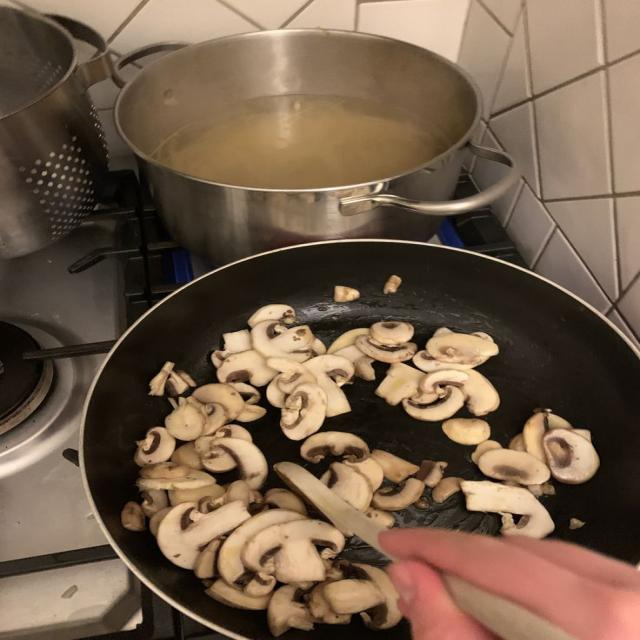champignon mushrooms: (218, 509, 306, 588), (242, 520, 345, 583), (157, 502, 250, 568), (461, 481, 554, 538), (354, 564, 402, 630), (543, 428, 599, 484), (306, 355, 354, 416), (212, 438, 267, 489), (194, 425, 252, 472), (523, 409, 572, 463), (280, 383, 326, 440), (320, 462, 373, 511), (251, 321, 314, 362), (478, 449, 550, 484), (426, 332, 499, 365), (267, 585, 313, 637), (403, 386, 465, 421), (217, 350, 277, 386), (300, 432, 369, 463), (324, 579, 385, 613), (375, 363, 424, 405), (205, 580, 271, 610), (192, 383, 244, 421), (307, 580, 351, 624), (267, 358, 317, 395), (165, 398, 206, 441), (137, 468, 215, 490), (372, 478, 424, 510), (463, 370, 499, 416), (356, 336, 417, 363), (134, 427, 175, 467), (149, 361, 195, 396), (168, 477, 225, 505), (371, 450, 419, 483), (334, 344, 375, 380), (195, 436, 236, 472), (521, 410, 548, 463), (345, 457, 384, 491), (419, 369, 469, 395), (413, 351, 473, 372), (442, 419, 490, 444), (194, 538, 223, 579), (264, 488, 306, 516), (247, 305, 296, 328), (327, 328, 369, 354), (370, 321, 413, 345), (212, 481, 250, 507), (200, 403, 230, 435), (149, 361, 174, 396), (416, 460, 447, 487), (171, 442, 202, 469), (140, 462, 190, 478), (432, 477, 462, 503), (166, 371, 196, 396), (471, 440, 502, 464), (141, 490, 168, 517), (121, 502, 145, 531), (223, 330, 251, 354), (266, 376, 287, 408), (230, 383, 260, 405), (214, 425, 252, 442), (149, 507, 171, 536), (365, 508, 394, 528), (236, 404, 266, 422), (334, 286, 359, 302), (507, 433, 526, 451), (383, 275, 401, 294), (311, 338, 326, 356), (569, 518, 586, 529)
